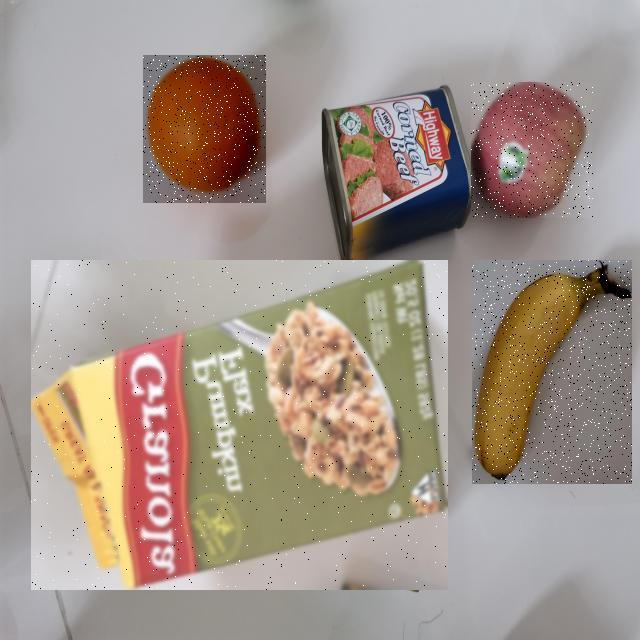apple: (175, 109, 640, 327)
banana: (156, 242, 640, 640)
orange: (10, 102, 276, 304)
